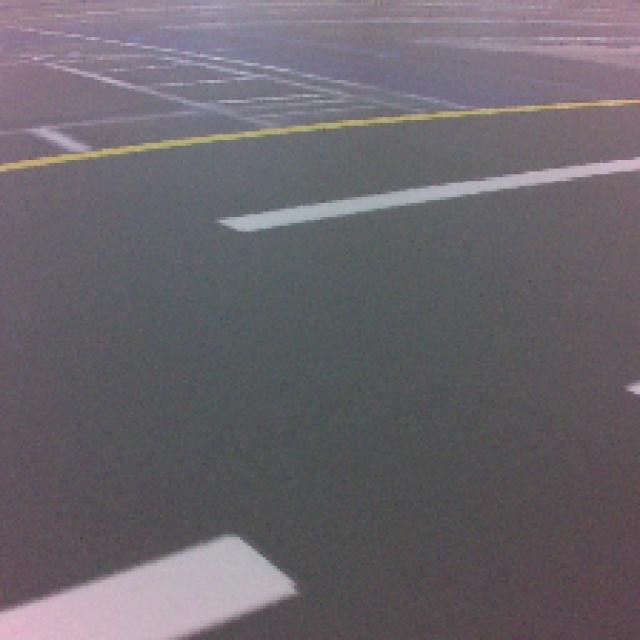Guard rail: (4, 534, 301, 640)
